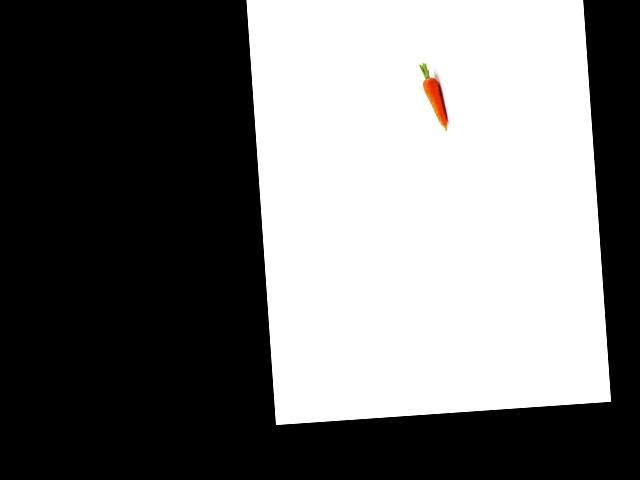carrot: (416, 70, 453, 134)
